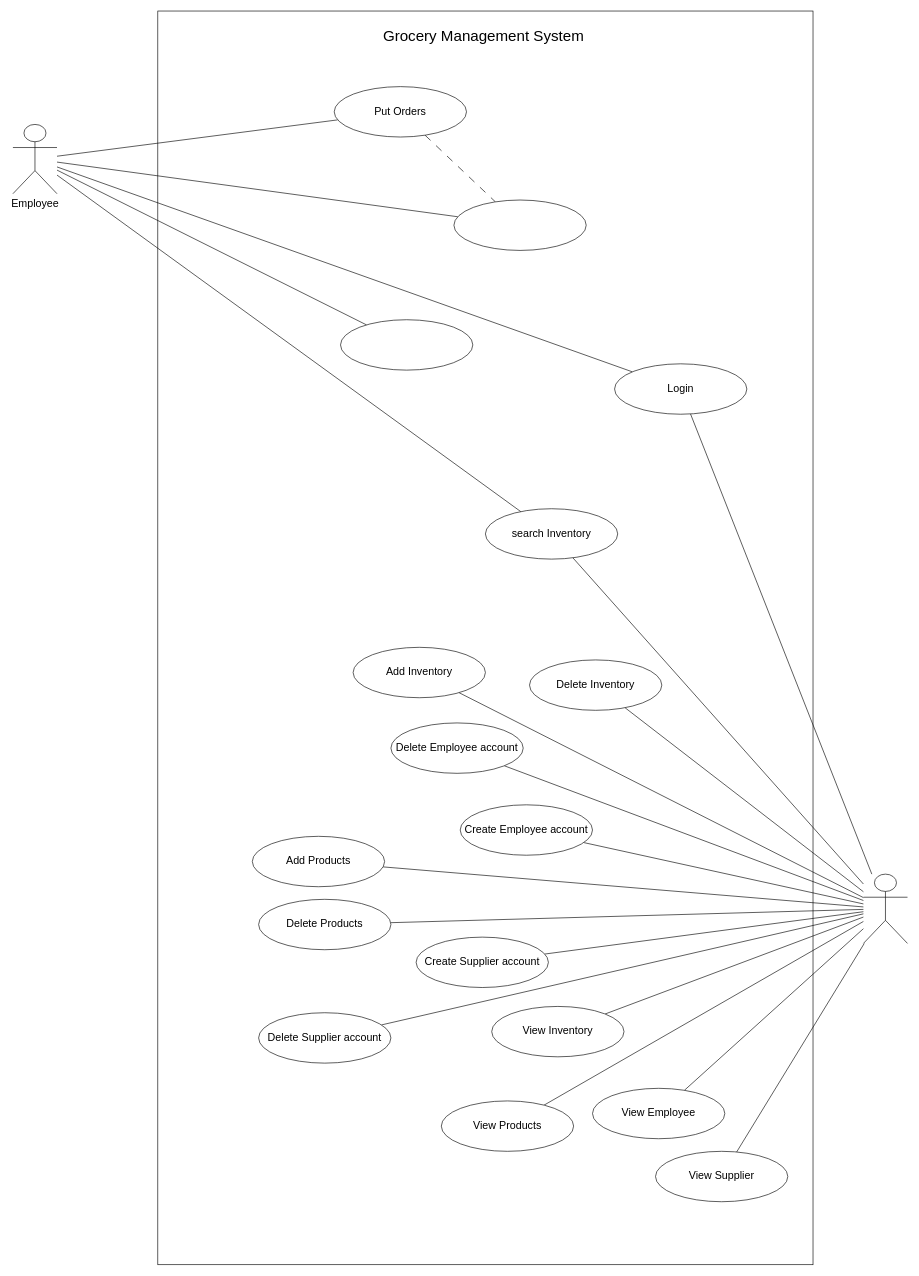
The diagram is 919 pixels wide and 1276 high, and some of its shapes have lost their labels. The shapes that lost their labels are listed below. From the top down, each one's centre as x and y in pixels, then its label:
At point (519, 224): "Genarate a Bill".
At point (406, 344): "search Products".
At point (885, 908): "Admin".
